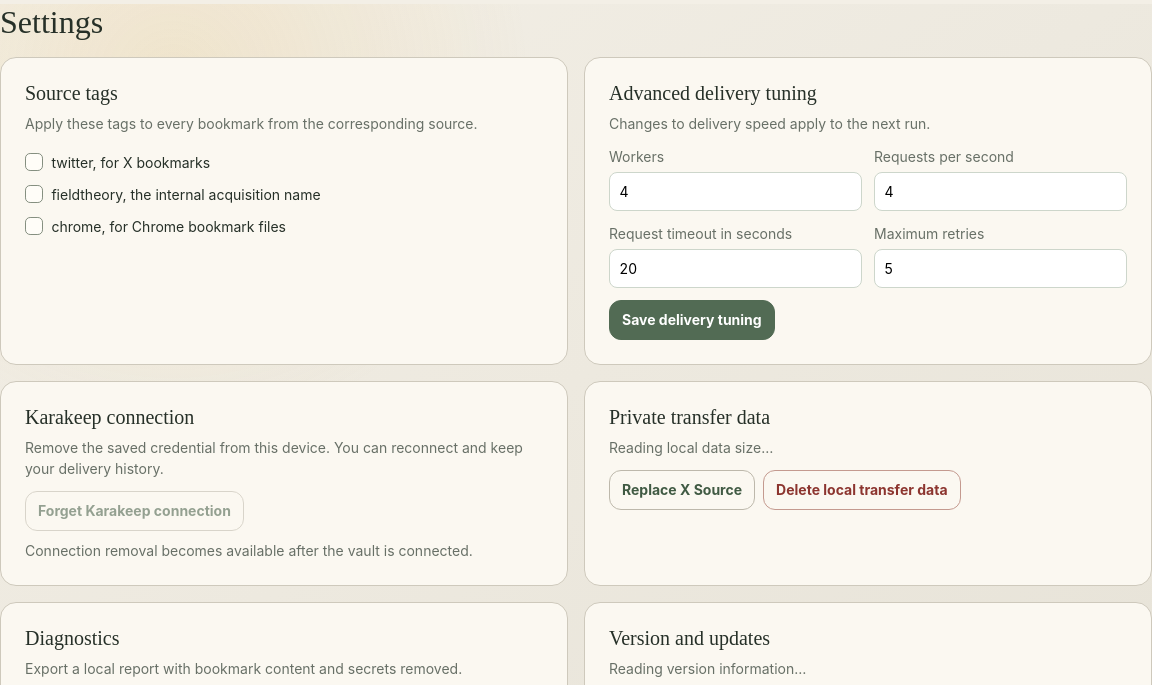
Settings › explains that local deletion does not affect Karakeep
The image size is (1152, 685).
Click the button "Delete local transfer data": (862, 490) [763,470,961,510]
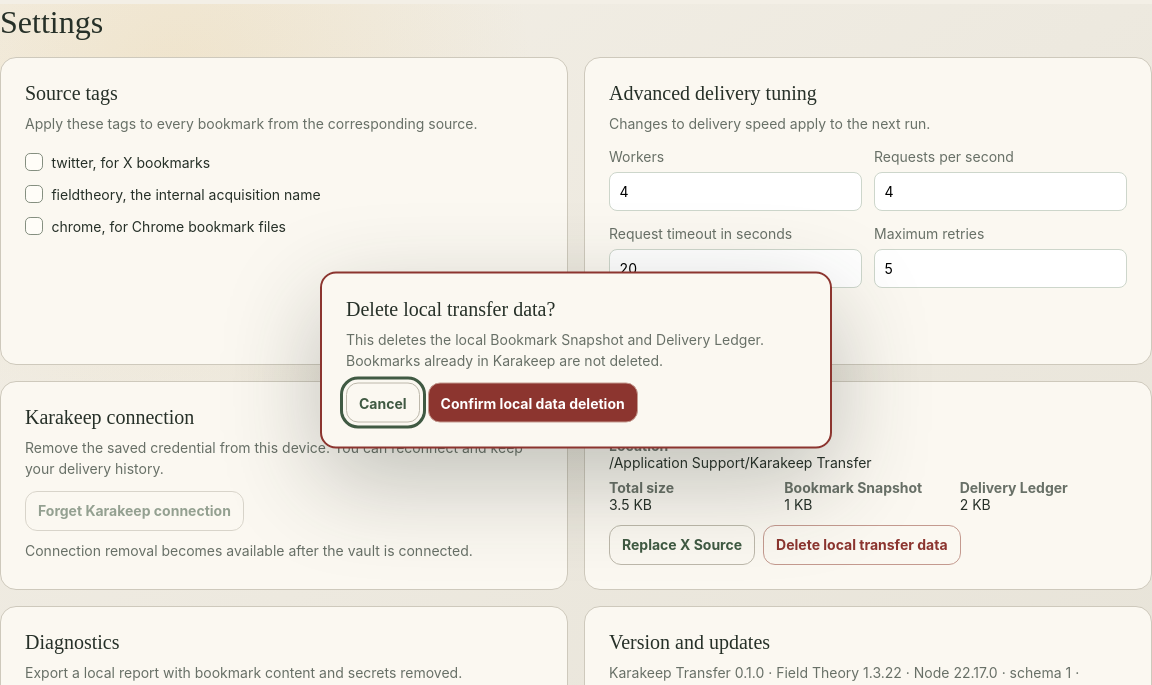
Expected: the text "This deletes the local Bookmark Snapshot and Delivery Ledger. Bookmarks already in Karakeep are not deleted." is shown, [346,330,764,368]
